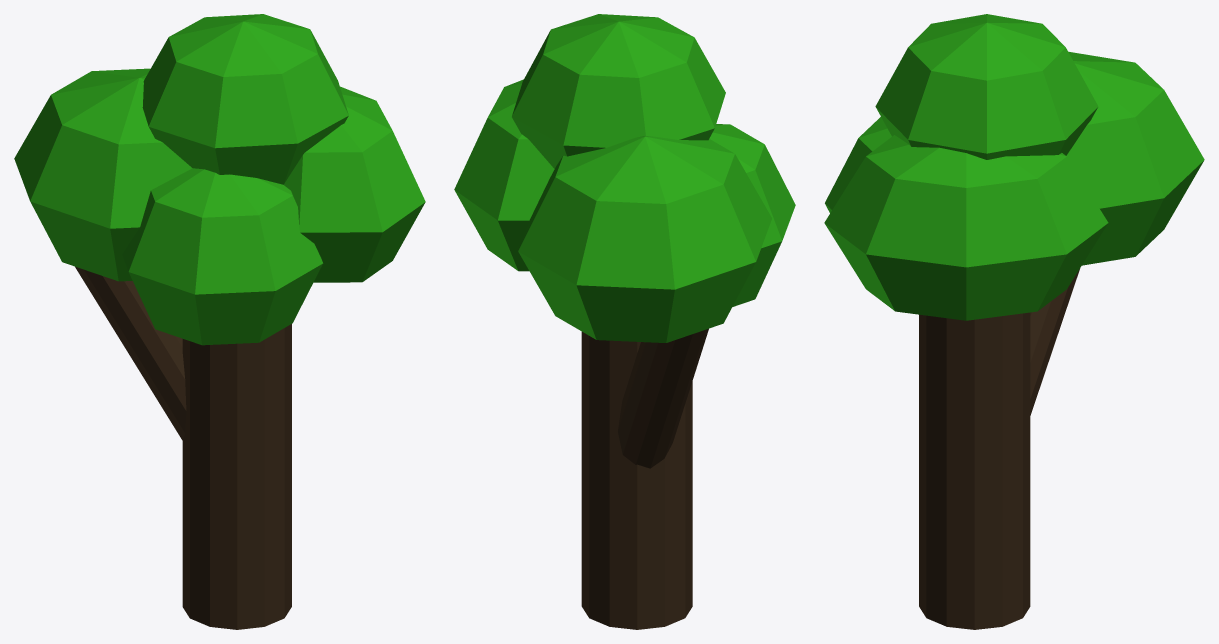
Rendered from mediumtree.dae.
3 renders of one model, left to right at view 1: azimuth 30°, elevation 25°; view 2: azimuth 150°, elevation 25°; view 3: azimuth 270°, elevation 25°, orthographic. The views are drawn at different scales.
Parts seen in each view (by area): view 1: Cylinder.001, Sphere.001, Sphere.003, Sphere, Sphere.002, Cylinder.002; view 2: Sphere, Cylinder.001, Sphere.003, Sphere.002, Cylinder.002, Sphere.001; view 3: Sphere.002, Cylinder.001, Sphere.003, Sphere, Cylinder.002, Sphere.001.
Boxes of the visible parts, x1=… form: Cylinder.001: x1=182, y1=324, x2=291, y2=629; Sphere.001: x1=122, y1=168, x2=323, y2=345; Sphere.003: x1=142, y1=14, x2=348, y2=184; Sphere: x1=14, y1=68, x2=192, y2=281; Sphere.002: x1=283, y1=86, x2=425, y2=282; Cylinder.002: x1=75, y1=266, x2=186, y2=440; Sphere: x1=518, y1=136, x2=771, y2=342; Cylinder.001: x1=581, y1=332, x2=692, y2=629; Sphere.003: x1=512, y1=14, x2=725, y2=168; Sphere.002: x1=454, y1=79, x2=554, y2=271; Cylinder.002: x1=618, y1=328, x2=708, y2=468; Sphere.001: x1=709, y1=124, x2=795, y2=306; Sphere.002: x1=824, y1=135, x2=1108, y2=320; Cylinder.001: x1=919, y1=312, x2=1030, y2=629; Sphere.003: x1=875, y1=14, x2=1098, y2=159; Sphere: x1=1066, y1=51, x2=1204, y2=265; Cylinder.002: x1=1030, y1=269, x2=1079, y2=415; Sphere.001: x1=825, y1=117, x2=891, y2=213.
Size of the model in its own units: 13.67 by 13.64 by 23.33.
